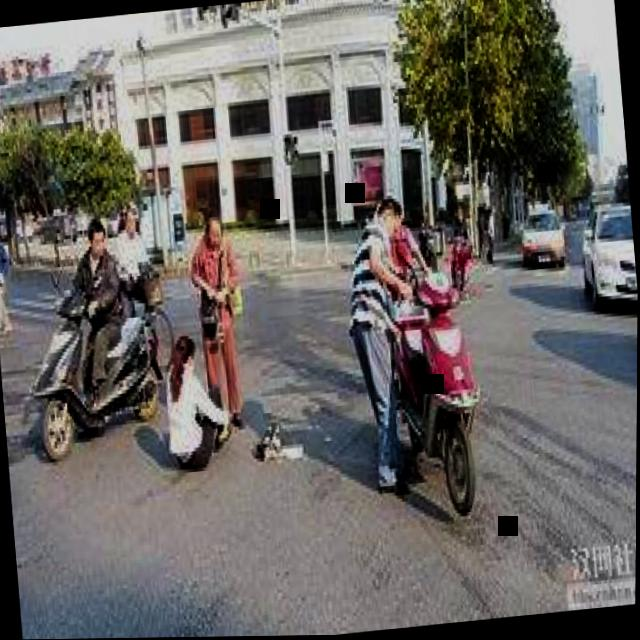Fall-Detected: (149, 318, 237, 475)
